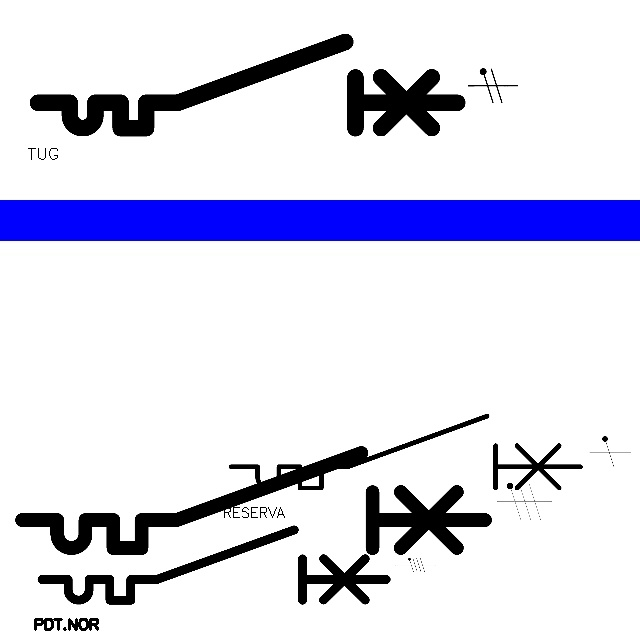interruptor_termomagnetico: (10, 441, 497, 560), (27, 31, 468, 139), (222, 407, 589, 497), (33, 521, 395, 609)
